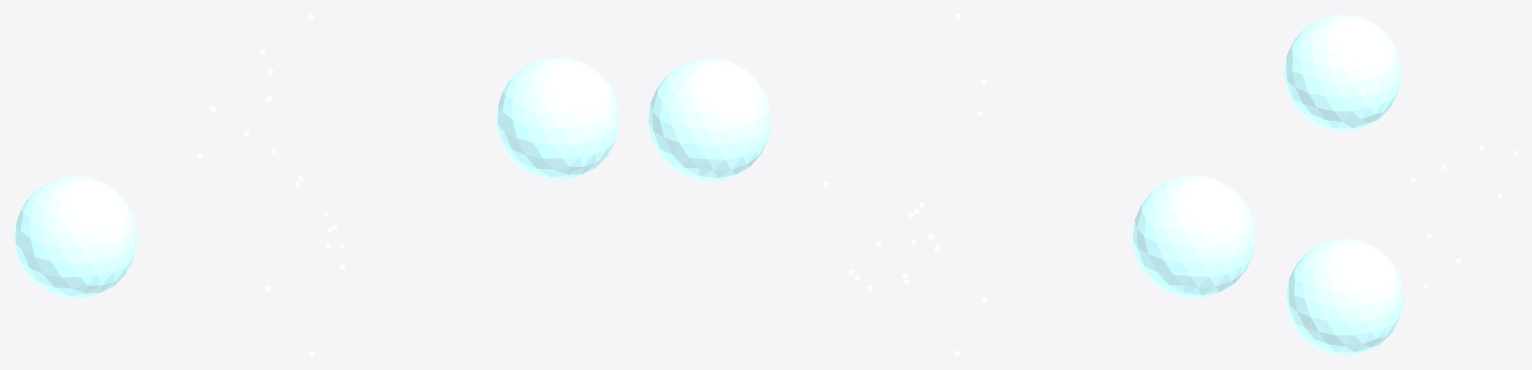
File: chemical_bonding.glb
The picture shows the model from 3 angles, left to right: view 1: azimuth 30°, elevation 25°; view 2: azimuth 150°, elevation 25°; view 3: azimuth 270°, elevation 25°; orthographic projection. The views are drawn at different scales.
Parts seen in each view (by area): view 1: Icosphere, Icosphere.001; view 2: Icosphere, Icosphere.001; view 3: Icosphere.001, Icosphere.
Part boxes in pixels (bbox=[...]): Icosphere: bbox=[14, 176, 137, 298]; Icosphere.001: bbox=[496, 57, 619, 179]; Icosphere: bbox=[1132, 175, 1255, 298]; Icosphere.001: bbox=[648, 58, 771, 180]; Icosphere.001: bbox=[1286, 238, 1403, 355]; Icosphere: bbox=[1284, 14, 1401, 131].
Bounding box in the file's own units: 12.11 × 6.7 × 4.37.
